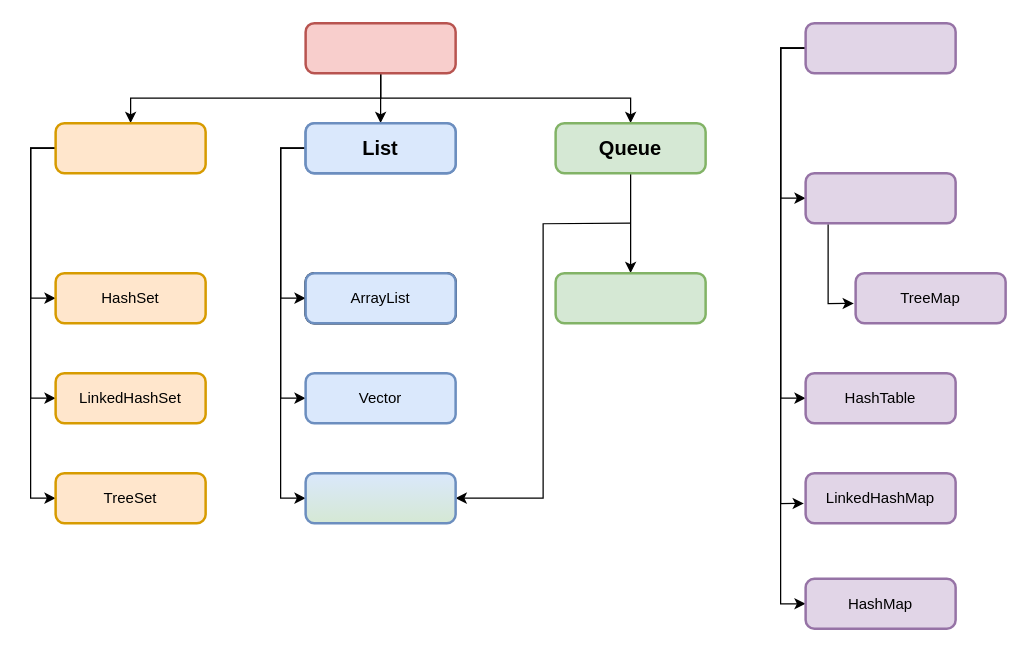
This 1029x651 diagram has some shape labels left out. The shapes that lost their labels are listed below. From the top down, each one's centre as x and y in pixels, then its label:
At (x=380, y=47): "Collection".
At (x=880, y=47): "Map".
At (x=130, y=147): "Set".
At (x=880, y=197): "SortedMap".
At (x=630, y=297): "PrioriyQueue".
At (x=380, y=497): "LinkedList".
